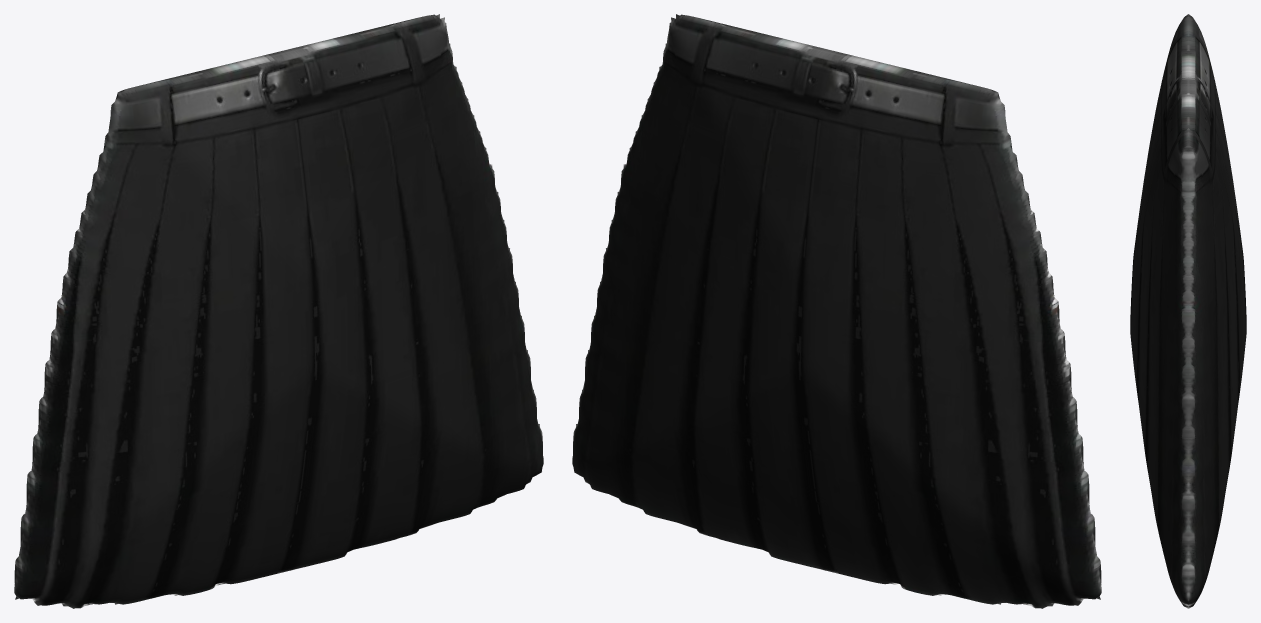
The model's file is prod-ae-noir-pleated-mini.glb.
The picture shows the model from 3 angles, left to right: view 1: azimuth 30°, elevation 25°; view 2: azimuth 150°, elevation 25°; view 3: azimuth 270°, elevation 25°; orthographic projection. The views are drawn at different scales.
Visible parts, largest first — view 1: prod-ae-noir-pleated-mini_standalone; view 2: prod-ae-noir-pleated-mini_standalone; view 3: prod-ae-noir-pleated-mini_standalone.
Boxes of the visible parts, x1=… form: prod-ae-noir-pleated-mini_standalone: x1=14, y1=14, x2=543, y2=608; prod-ae-noir-pleated-mini_standalone: x1=572, y1=14, x2=1101, y2=608; prod-ae-noir-pleated-mini_standalone: x1=1130, y1=14, x2=1246, y2=608.
Bounding box in the file's own units: 0.4654 × 0.4371 × 0.1033.
Materials: 1 (1 with a texture image).
